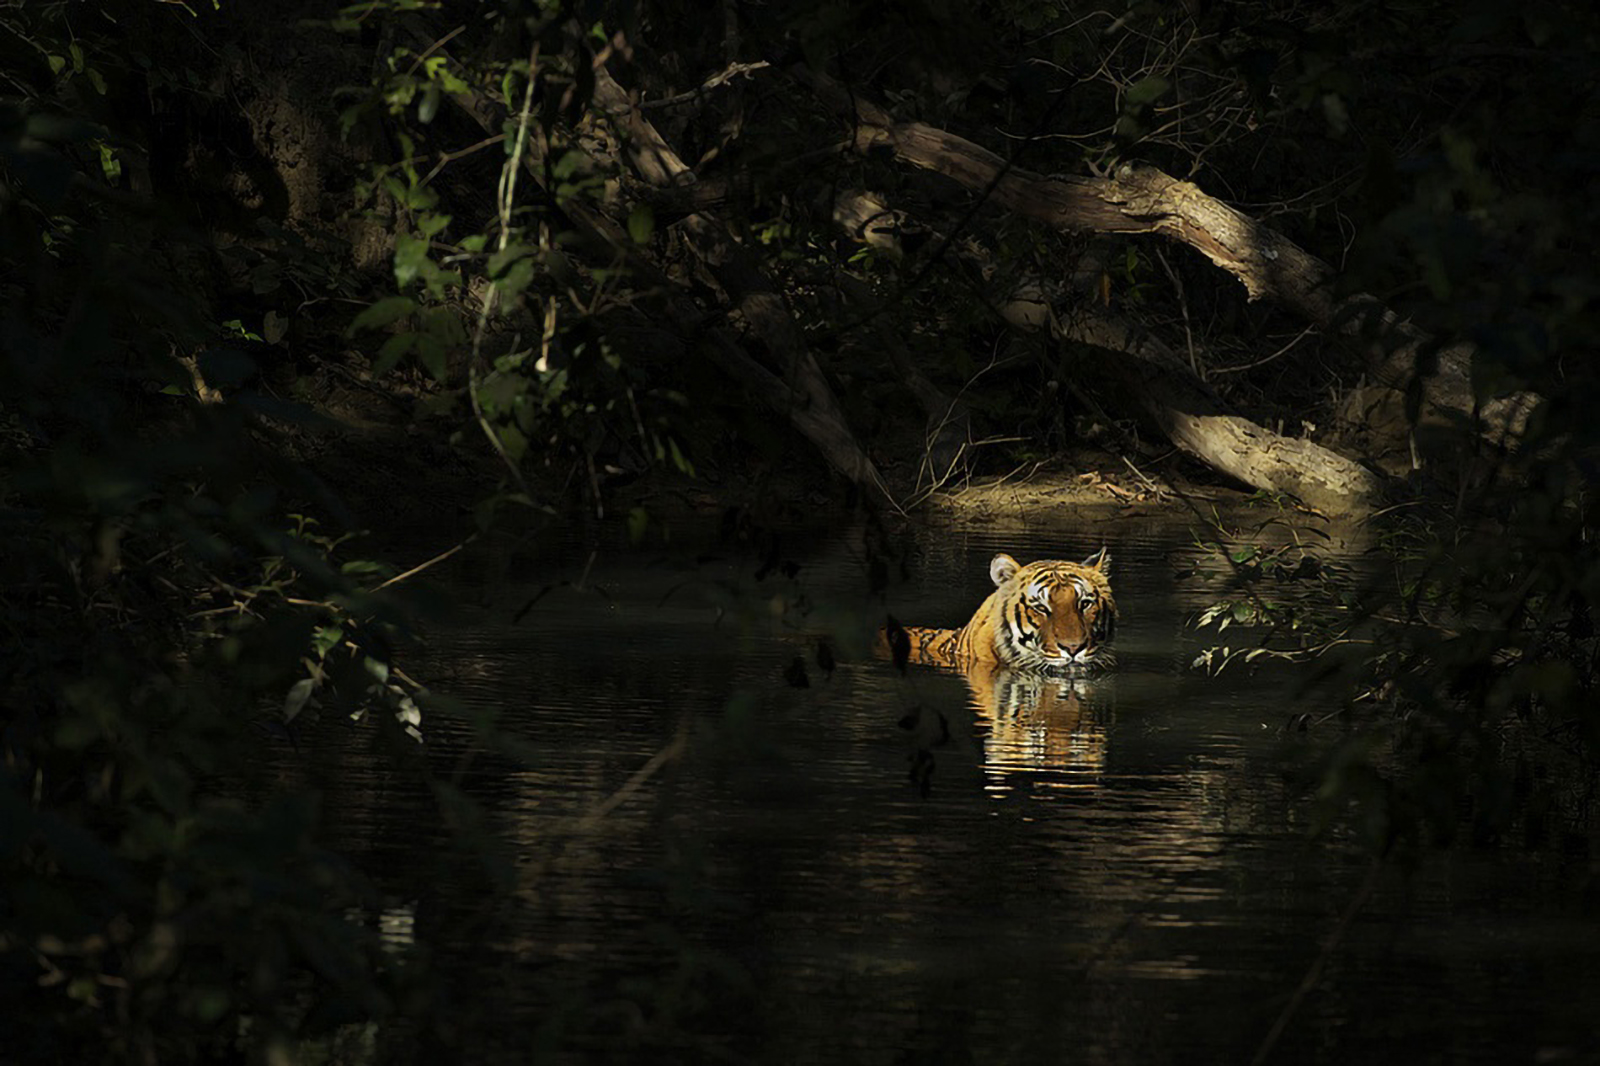tiger: (883, 516, 1155, 706)
